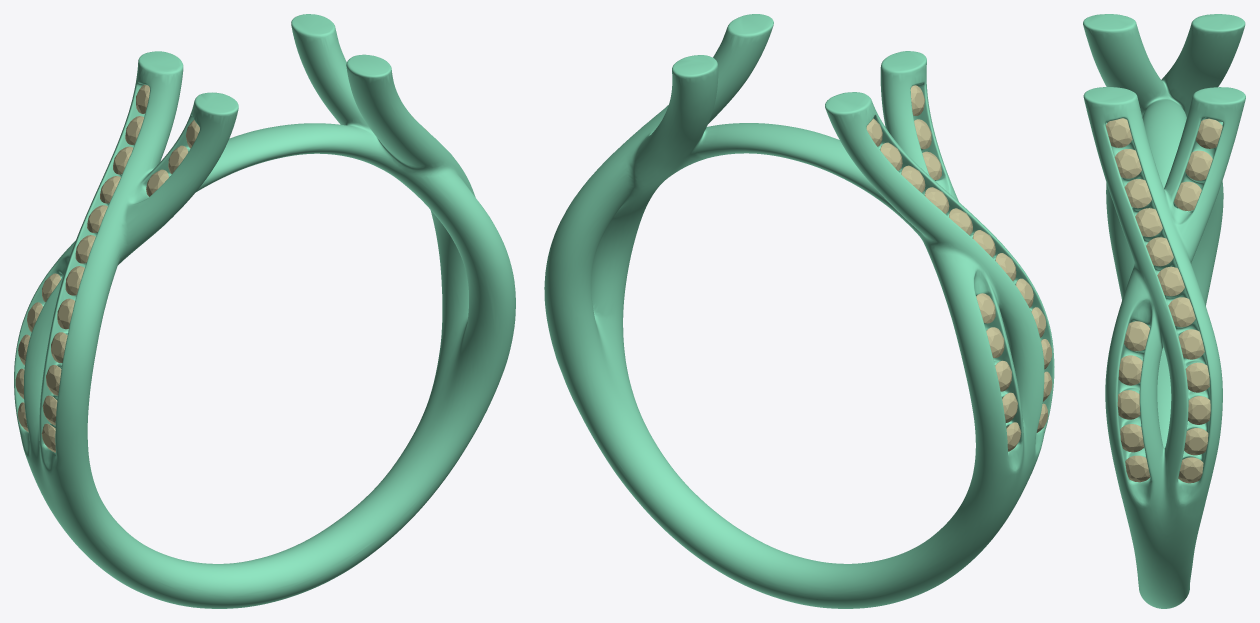
The picture shows the model from 3 angles, left to right: view 1: azimuth 30°, elevation 25°; view 2: azimuth 150°, elevation 25°; view 3: azimuth 270°, elevation 25°; orthographic projection. The views are drawn at different scales.
Visible parts, largest first — view 1: Metal02; view 2: Metal02; view 3: Metal02, Diamond_Gem.026, Diamond_Gem.032, Diamond_Gem.020, Diamond_Gem.021, Diamond_Gem.033, Diamond_Gem.027, Diamond_Gem.038, Diamond_Gem.031, Diamond_Gem.025, Diamond_Gem.034, Diamond_Gem.039 (+9 smaller).
Part boxes in pixels (x1=…): Metal02: x1=14, y1=14, x2=515, y2=608; Metal02: x1=544, y1=14, x2=1054, y2=608; Metal02: x1=1083, y1=14, x2=1245, y2=608; Diamond_Gem.026: x1=1185, y1=150, x2=1212, y2=180; Diamond_Gem.032: x1=1178, y1=329, x2=1204, y2=359; Diamond_Gem.020: x1=1124, y1=321, x2=1149, y2=351; Diamond_Gem.021: x1=1118, y1=355, x2=1142, y2=385; Diamond_Gem.033: x1=1168, y1=297, x2=1195, y2=327; Diamond_Gem.027: x1=1196, y1=118, x2=1222, y2=148; Diamond_Gem.038: x1=1114, y1=149, x2=1141, y2=178; Diamond_Gem.031: x1=1185, y1=362, x2=1209, y2=392; Diamond_Gem.025: x1=1174, y1=181, x2=1201, y2=211; Diamond_Gem.034: x1=1157, y1=266, x2=1184, y2=296; Diamond_Gem.039: x1=1106, y1=118, x2=1132, y2=147.
Bounding box in the file's own units: 21.01 × 23.04 × 6.46.
